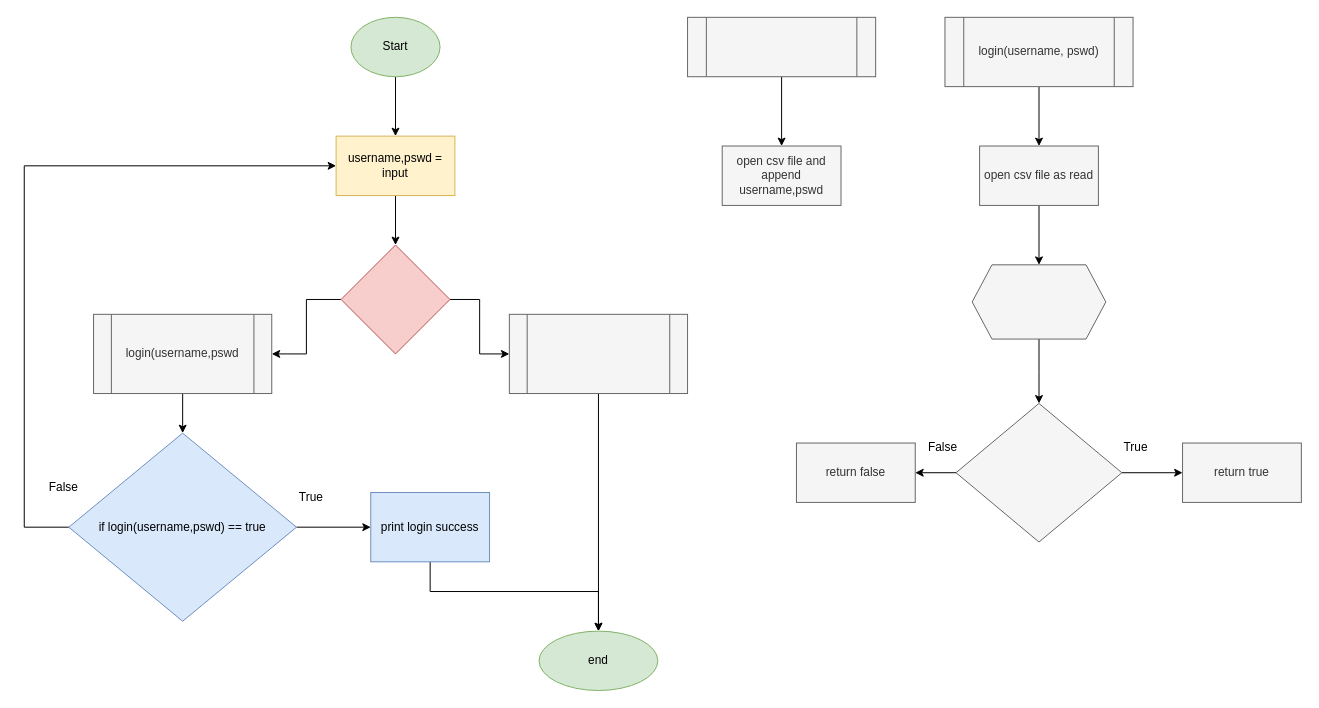
This 1319x708 diagram has some shape labels left out. Here are the shapes that lost their labels. From the top down, the centre of each, then its label:
At [781,46]: "signup(username, pswd)".
At [395,299]: "already have an account?".
At [1038,301]: "for line in csv file data".
At [598,353]: "signup(username,pswd)".
At [1038,472]: "if line == username, pswd".
